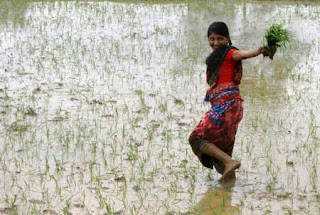human: (178, 16, 296, 195)
